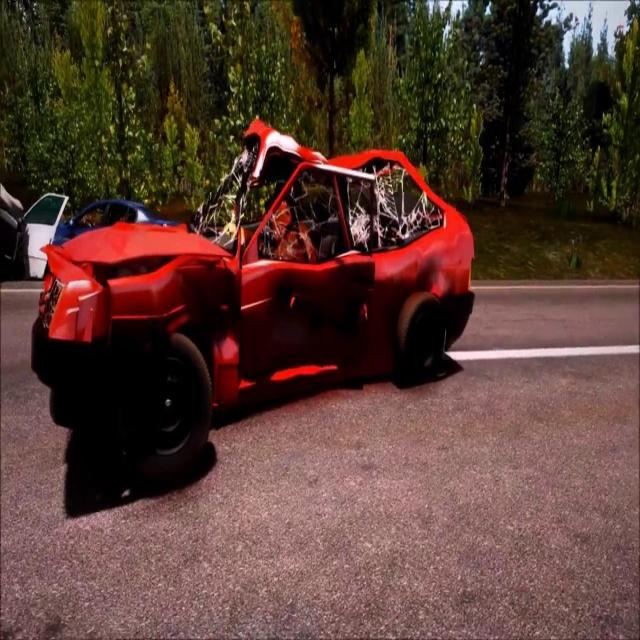accident: (26, 107, 478, 488)
